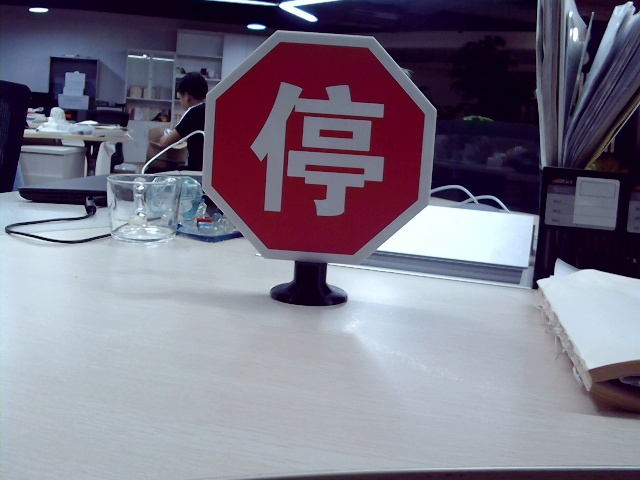stop: (251, 78, 388, 215)
